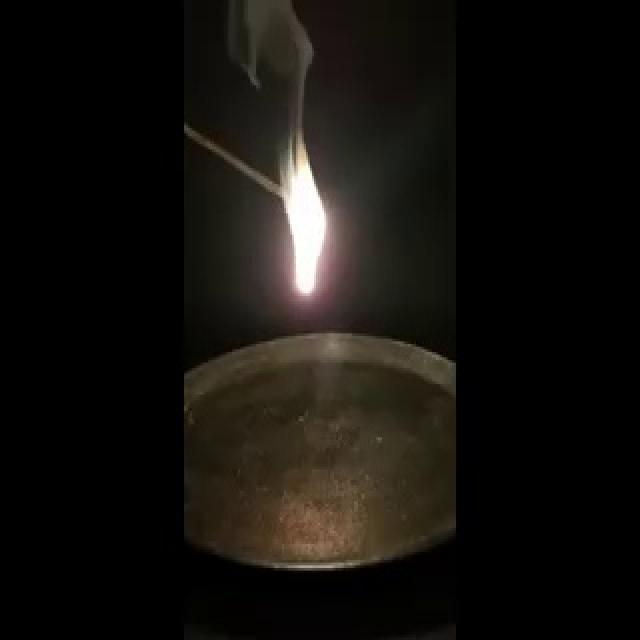fire: (275, 114, 334, 302)
